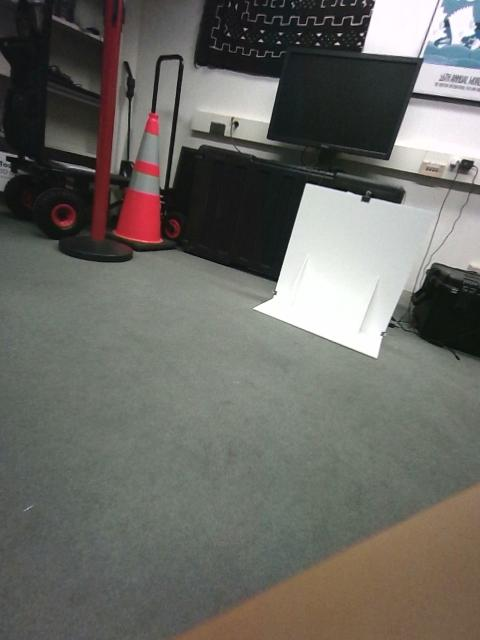block: (236, 343, 282, 392)
